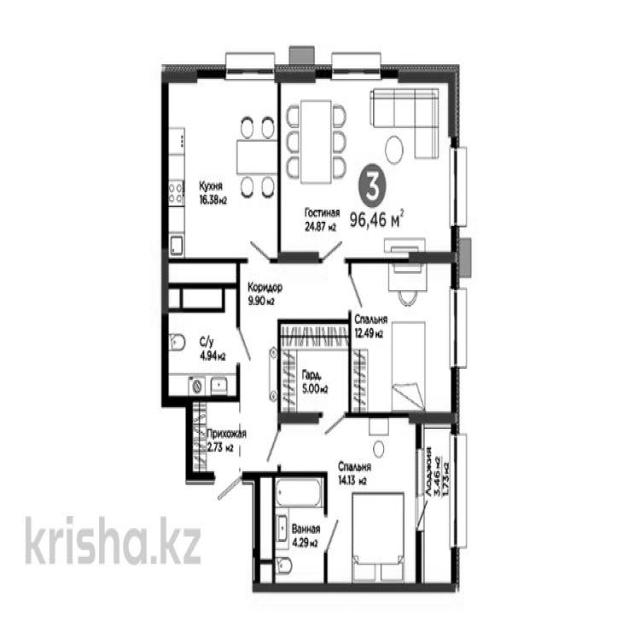balcony: (419, 418, 460, 592)
bathroom: (163, 264, 240, 402), (260, 477, 327, 588)
hallway: (241, 264, 350, 323), (207, 403, 277, 472)
kitchen: (165, 75, 280, 264)
living_room: (278, 68, 454, 257), (350, 263, 453, 413), (328, 421, 419, 585)
other: (280, 324, 349, 418)
